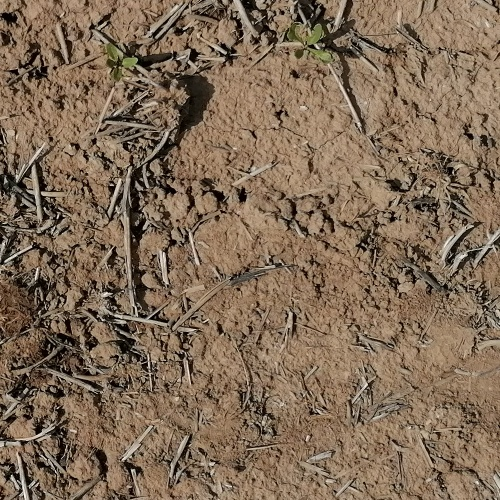beet: (290, 24, 333, 60), (107, 44, 137, 79)
